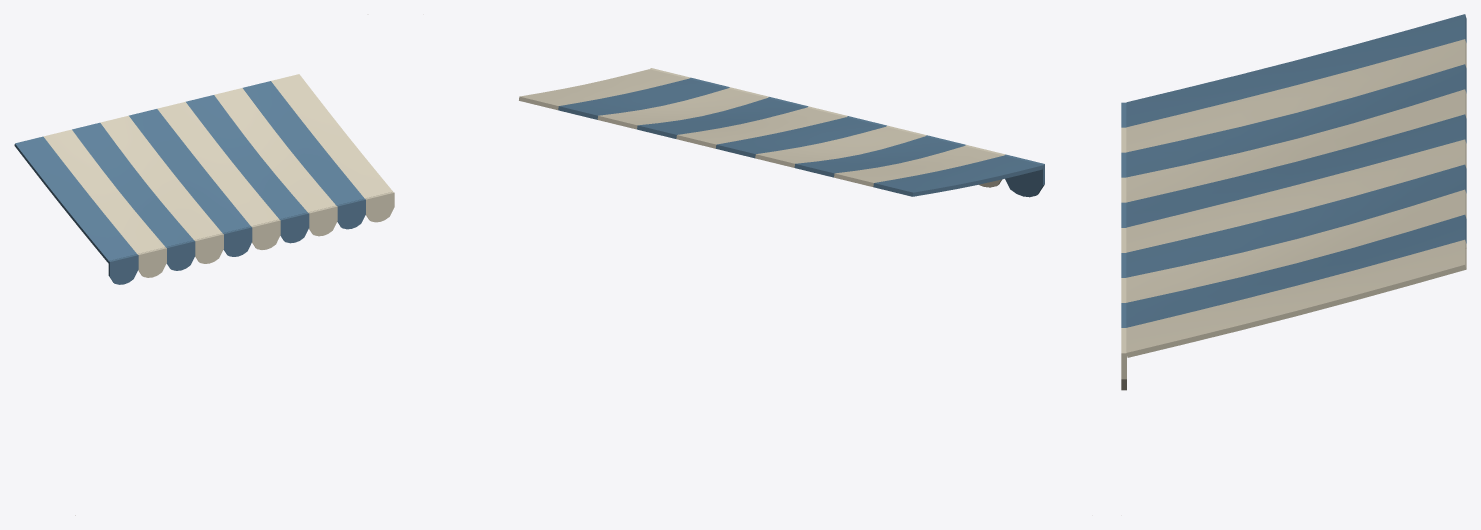
File: BaitShopStand_canvas.glb
3 views of the same model, side by side, from view 1: azimuth 30°, elevation 25°; view 2: azimuth 150°, elevation 25°; view 3: azimuth 270°, elevation 25° (orthographic). The views are drawn at different scales.
Parts seen in each view (by area): view 1: BaitShopStand_canvas; view 2: BaitShopStand_canvas; view 3: BaitShopStand_canvas.
Part boxes in pixels (bbox=[...]): BaitShopStand_canvas: bbox=[14, 74, 394, 515]; BaitShopStand_canvas: bbox=[519, 68, 1044, 197]; BaitShopStand_canvas: bbox=[1121, 14, 1466, 390].
Size of the model in its own units: 14.32 by 11.9 by 6.11.
